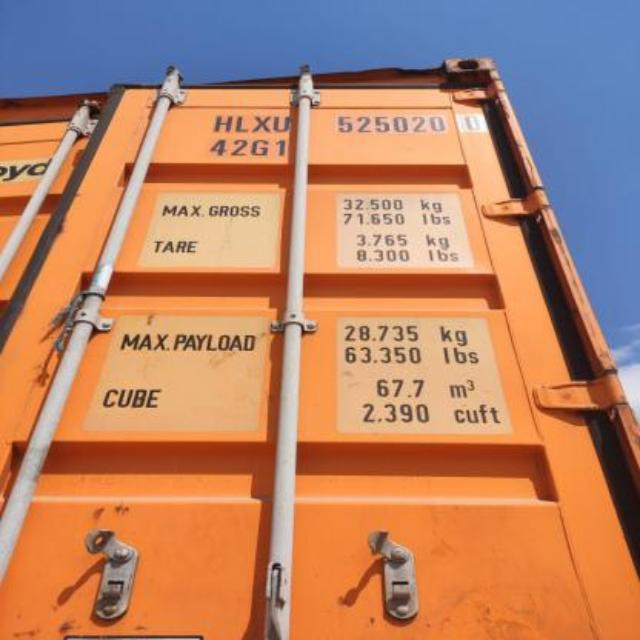0: (391, 115, 409, 133), (428, 115, 444, 131), (463, 116, 481, 130)
2: (410, 115, 426, 133), (357, 117, 373, 133)
5: (373, 115, 391, 133), (338, 117, 352, 133)
H: (215, 115, 231, 131)
L: (234, 116, 250, 134)
U: (273, 116, 291, 132)
X: (254, 116, 272, 132)
